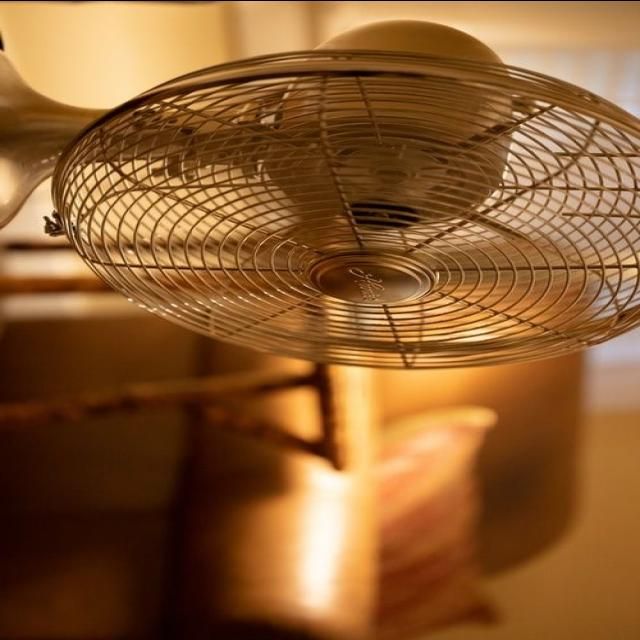fan: (0, 16, 640, 373)
